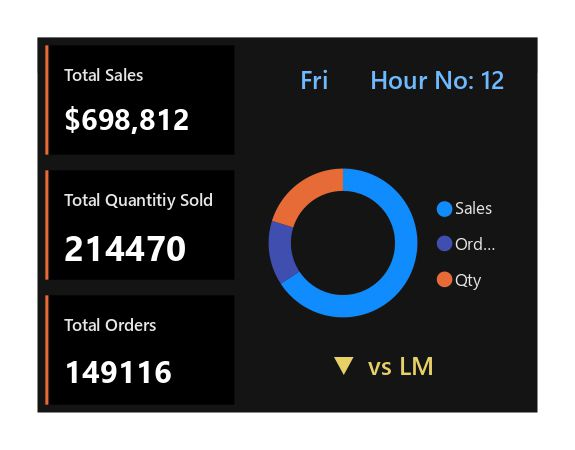

The dashboard page shown, as its layout file describes it:
{"tool":"powerbi","page":{"name":"Tooltip-day & Hour chart","canvas":[320,240],"ordinal":2},"visuals":[{"type":"cardVisual","fields":{"Data":["Transactions.Total Sales","Transactions.Total Quantitiy Sold","Transactions.Total Orders"]},"box":[0,0,131,240],"z":0},{"type":"donutChart","fields":{"Y":["Transactions.Total Sales","Transactions.Total Orders","Transactions.Total Quantitiy Sold"]},"box":[131,56,181,151],"z":1000},{"type":"card","fields":{"Values":["Date Table.TT for Hour"]},"box":[200,2,112,54],"z":2000},{"type":"card","fields":{"Values":["Transactions.MoM Growth & Diff sales"]},"box":[131,190,181,44],"z":3000},{"type":"card","fields":{"Values":["Min(Date Table.Day Name)"]},"box":[132,2,90,54],"z":4000}]}

Visuals, with their boxes on the page's 320x240 design canvas (x1, y1, x2, y2). These are canvas units, not pixel positions in the 575x450 screenshot, which may show the page scaled, cropped or inside an application window:
cardVisual - Transactions.Total Sales x Transactions.Total Quantitiy Sold: [0, 0, 131, 240]
donutChart - Transactions.Total Sales x Transactions.Total Orders: [131, 56, 312, 207]
card - Date Table.TT for Hour: [200, 2, 312, 56]
card - Transactions.MoM Growth & Diff sales: [131, 190, 312, 234]
card - Min(Date Table.Day Name): [132, 2, 222, 56]
